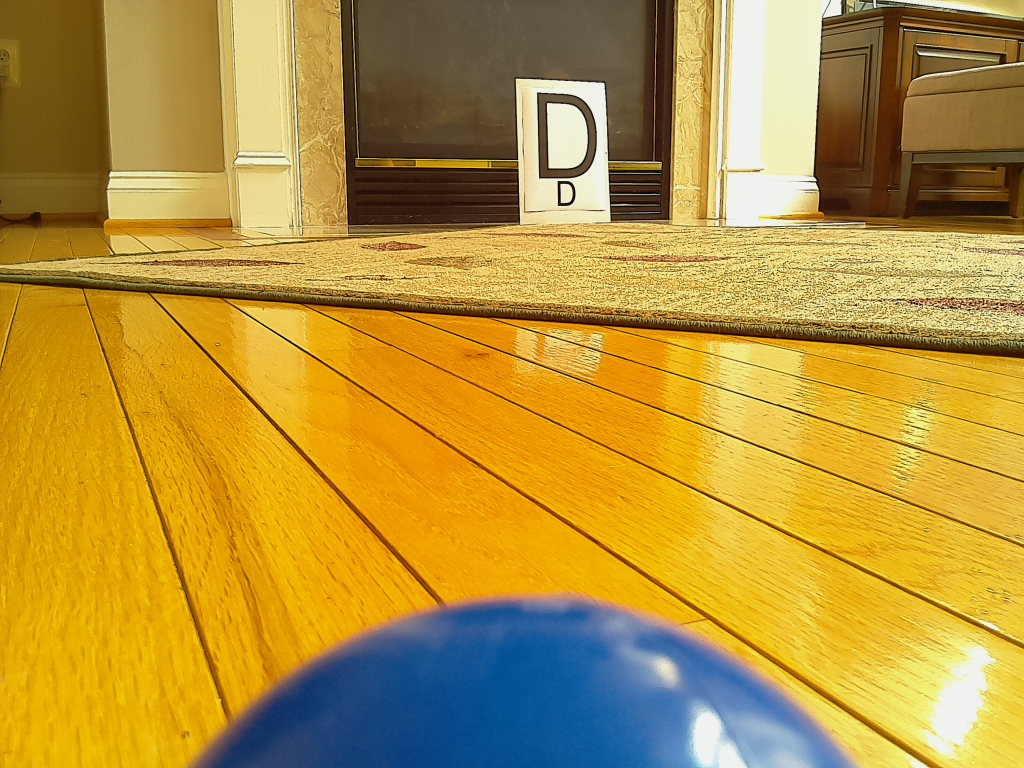letter: (540, 92, 598, 179)
